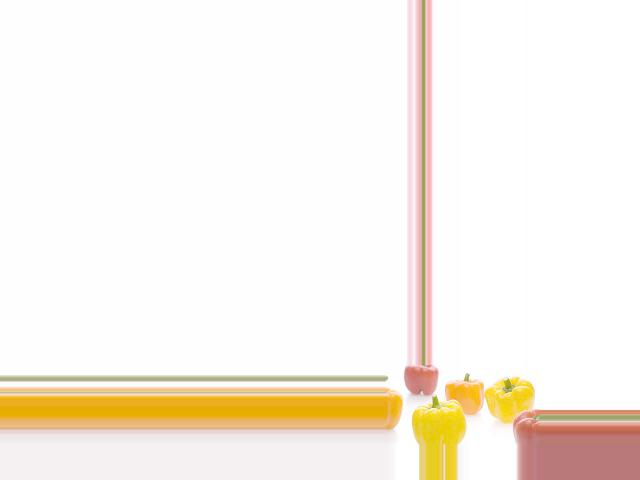bell_pepper: (384, 385, 405, 429)
